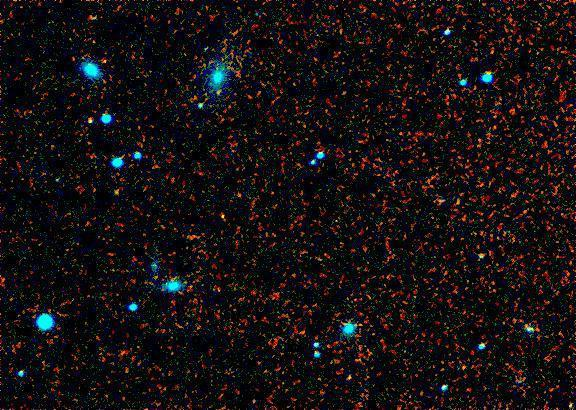star: (205, 78, 235, 108)
